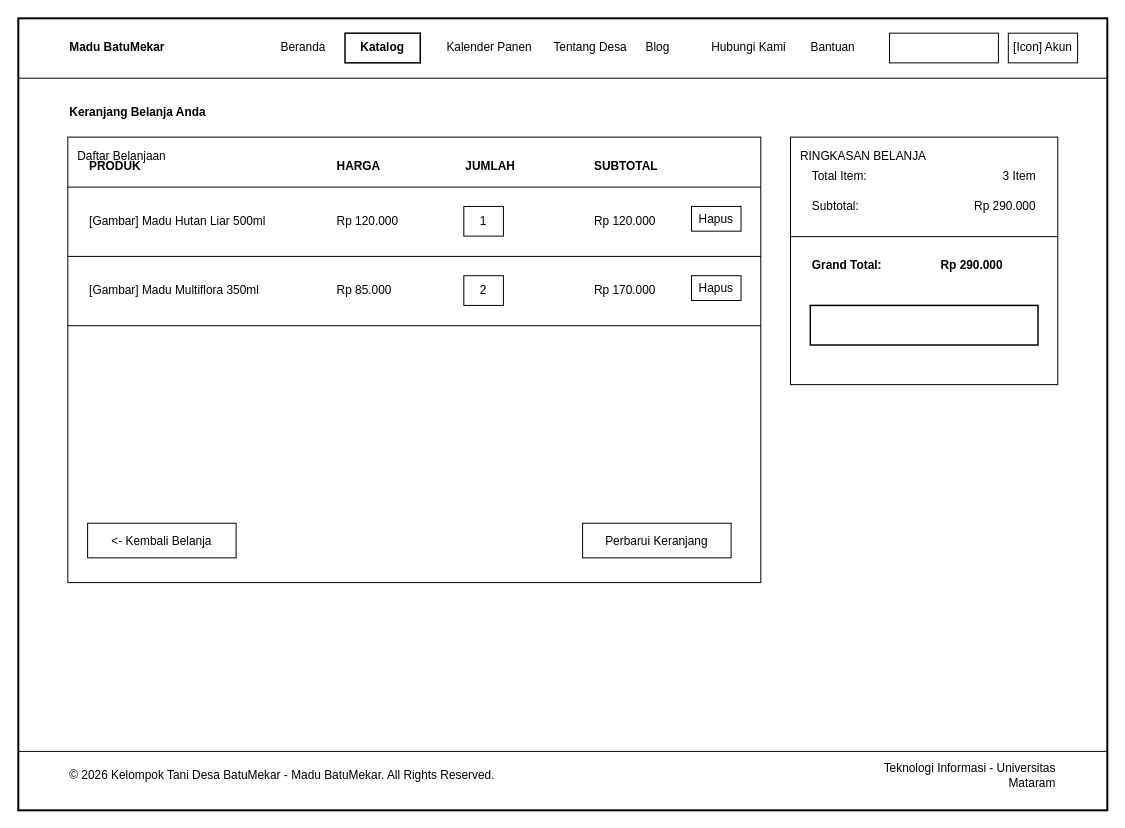
Image size: 1125x828. Some labels were removed from this diagram. The shapes that lost their labels are listed below. From the top down, each one's centre as x and y in pixels, then its label:
(x=943, y=47): [Icon] Keranjang (2)
(x=923, y=324): Lanjut ke Checkout
